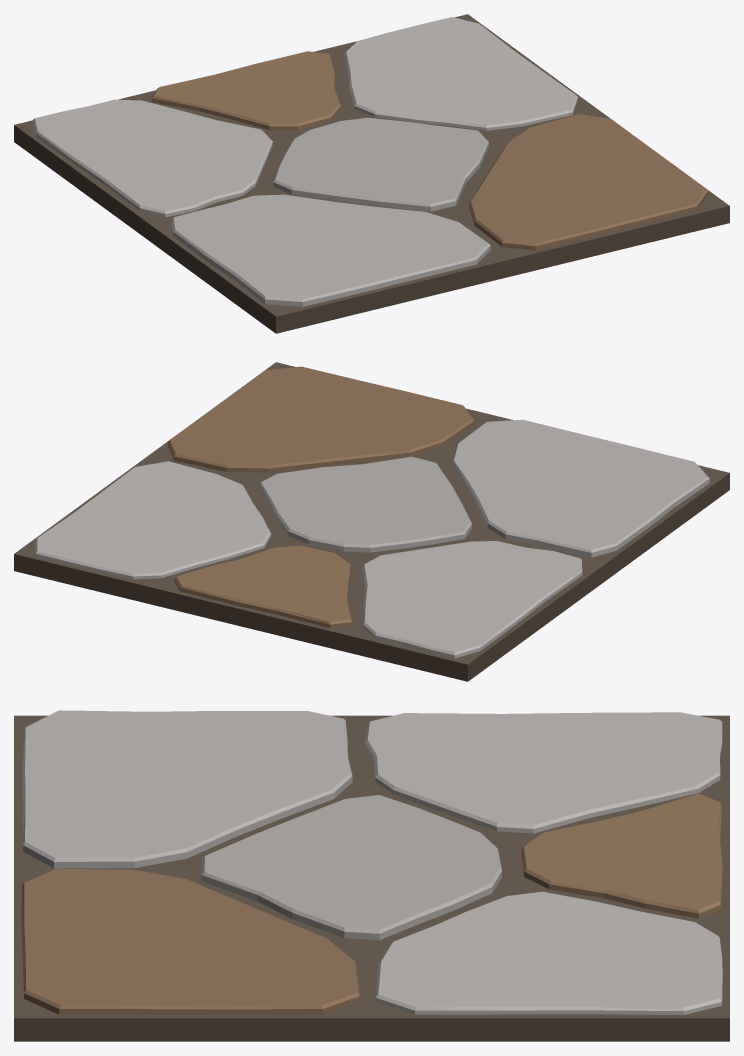
File: stone-path-tile-f77e6e.glb
3 views of the same model, one above another, from view 1: azimuth 30°, elevation 25°; view 2: azimuth 150°, elevation 25°; view 3: azimuth 270°, elevation 25° (orthographic). The views are drawn at different scales.
Parts seen in each view (by area): view 1: stone-path-tile-mesh; view 2: stone-path-tile-mesh; view 3: stone-path-tile-mesh.
Boxes of the visible parts, bbox=[...] form: stone-path-tile-mesh: bbox=[14, 14, 729, 333]; stone-path-tile-mesh: bbox=[14, 362, 729, 681]; stone-path-tile-mesh: bbox=[14, 710, 729, 1041].
Bounding box in the file's own units: 1 × 0.05 × 1.
